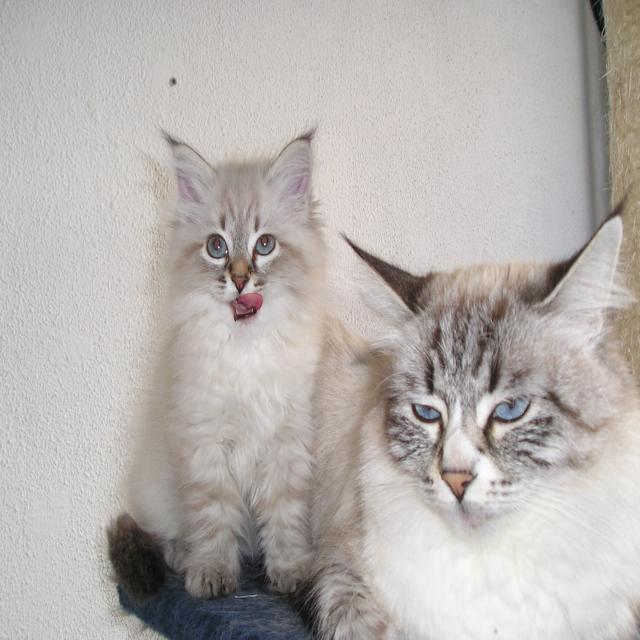Neva Masquerade: (313, 209, 640, 640), (124, 125, 324, 605)
